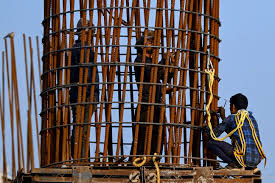human: (213, 91, 266, 170)
nohelmet: (228, 92, 250, 111)
novest: (225, 110, 259, 148)
